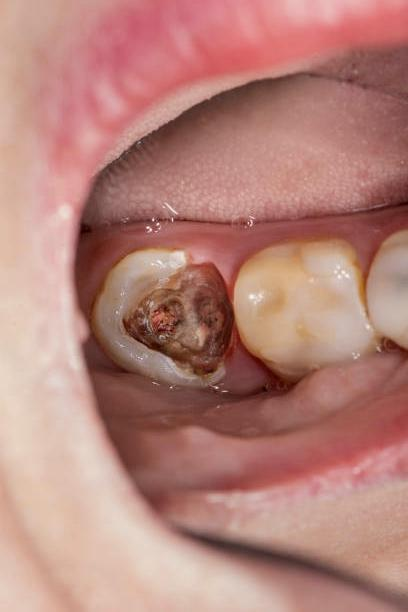Caries: (115, 261, 242, 379)
